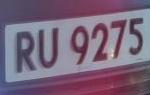2: (88, 19, 110, 65)
5: (126, 15, 147, 60)
7: (107, 15, 128, 61)
9: (67, 20, 92, 72)
R: (11, 28, 38, 77)
U: (37, 25, 62, 73)
